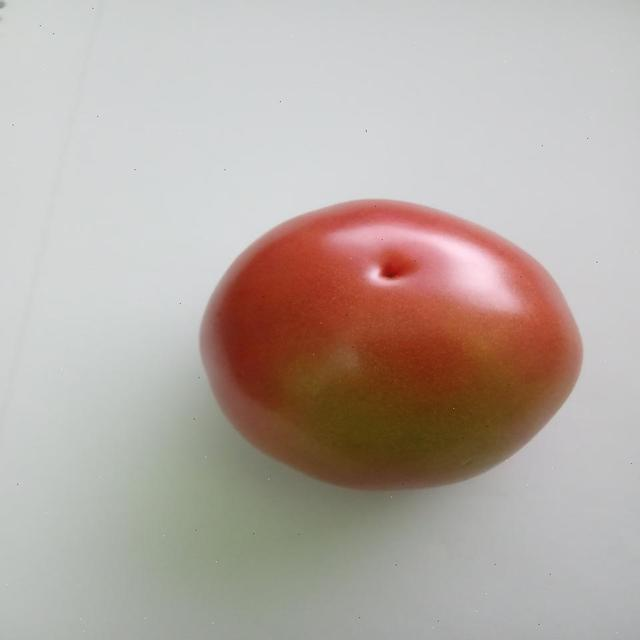Healthy Fruit: (127, 126, 394, 329)
